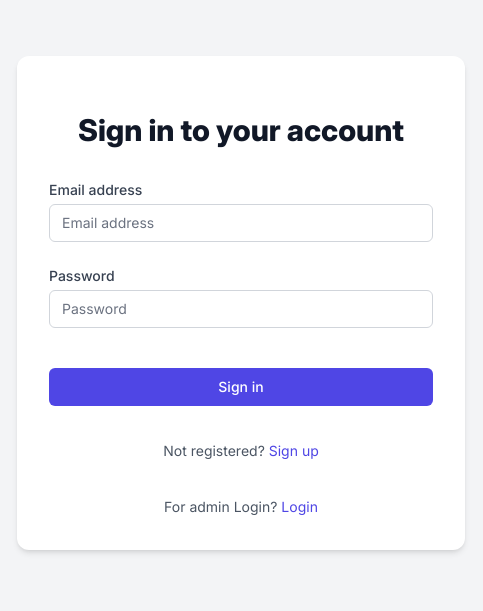
Scenario: Login › should show error message for unauthorized role
Note: Fill in the login form
Type "john@example.com" into the field with placeholder "Email address".
click(241, 223); type("john@example.com")  # box [49,204,433,242]
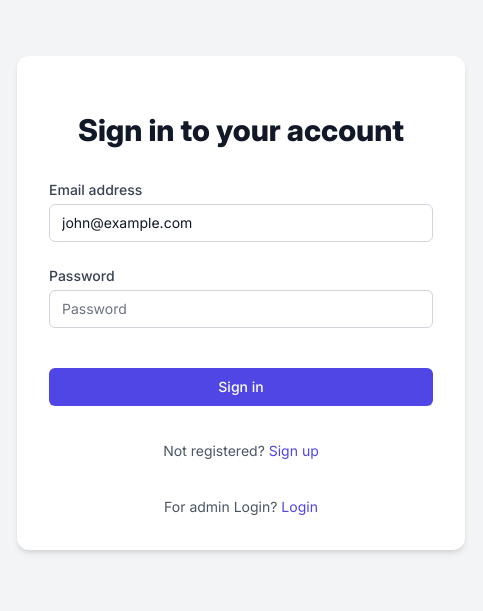
Type "Password123" into the password field with placeholder "Password".
click(241, 309); type("Password123")  # box [49,290,433,328]
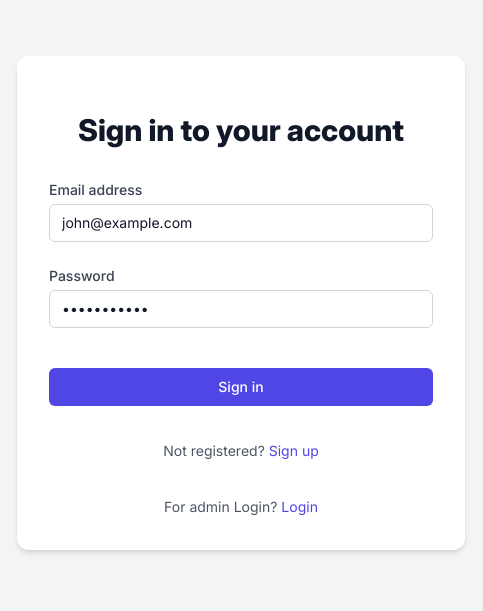
Note: Submit the form
Click the button "Sign in".
click(241, 387)  # box [49,368,433,406]
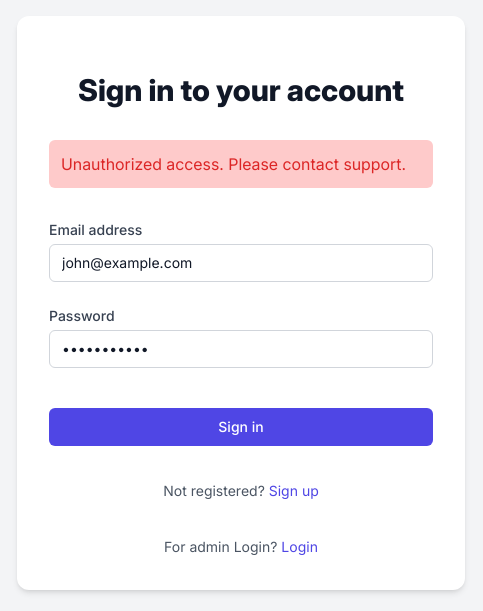
Expected: the text "Unauthorized access. Please contact support." is shown, [49,140,433,188]
